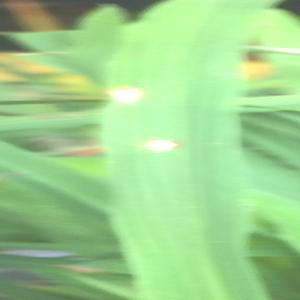1 RiceBlast: (125, 129, 194, 168), (94, 82, 146, 114)
